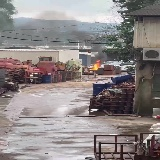fire: (89, 60, 100, 70)
